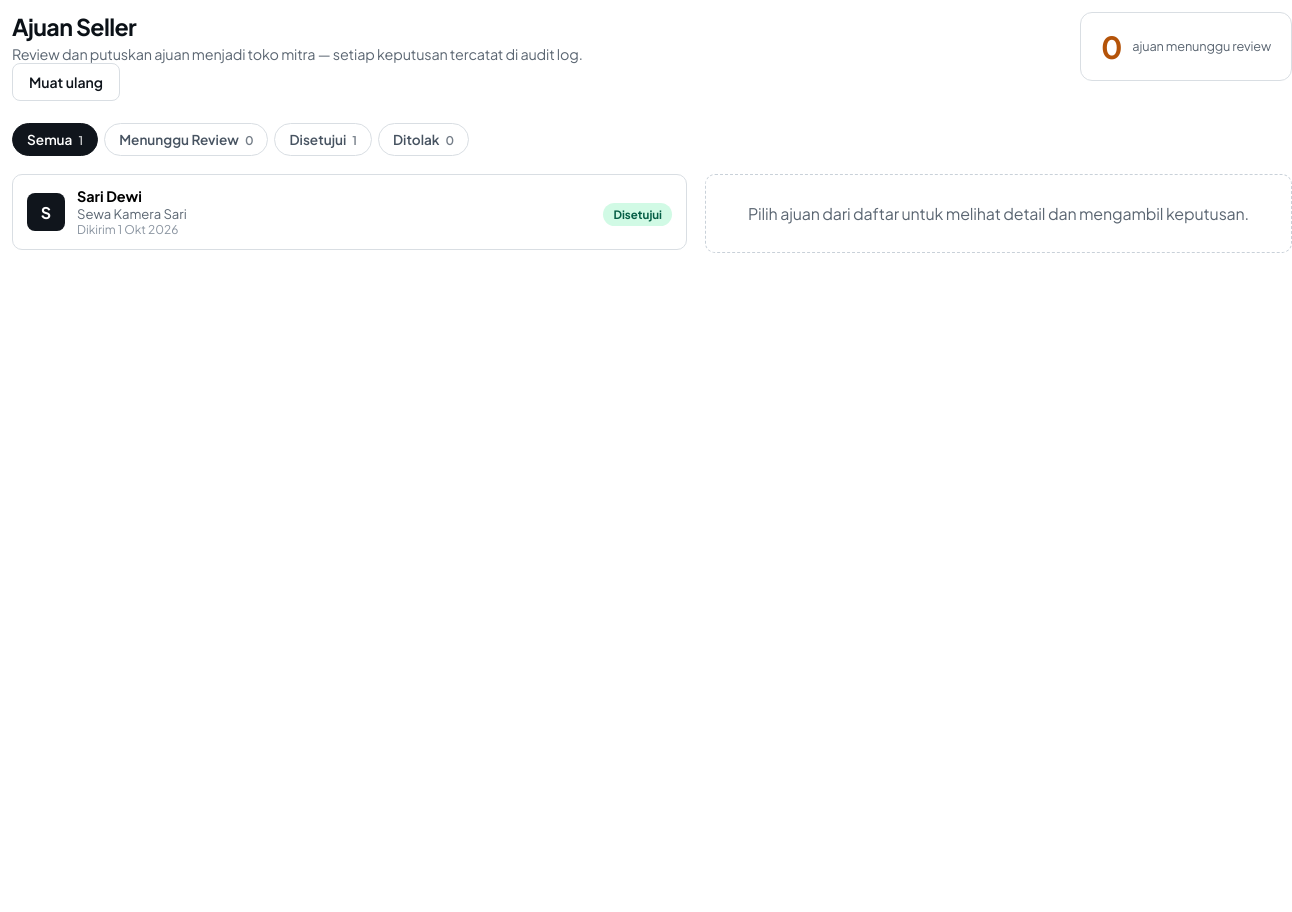
AdminApplications › ajuan yang sudah diputus tidak menawarkan aksi keputusan
This screenshot has width=1292, height=912.
Expected: the text "Sari Dewi" is shown, x1=77 y1=187 x2=142 y2=205
Click the button "S Sari Dewi Sewa Kamera Sari Dikirim 1 Okt 2026 Disetujui". click: coordinates (46, 212)
box: x1=12 y1=174 x2=687 y2=250
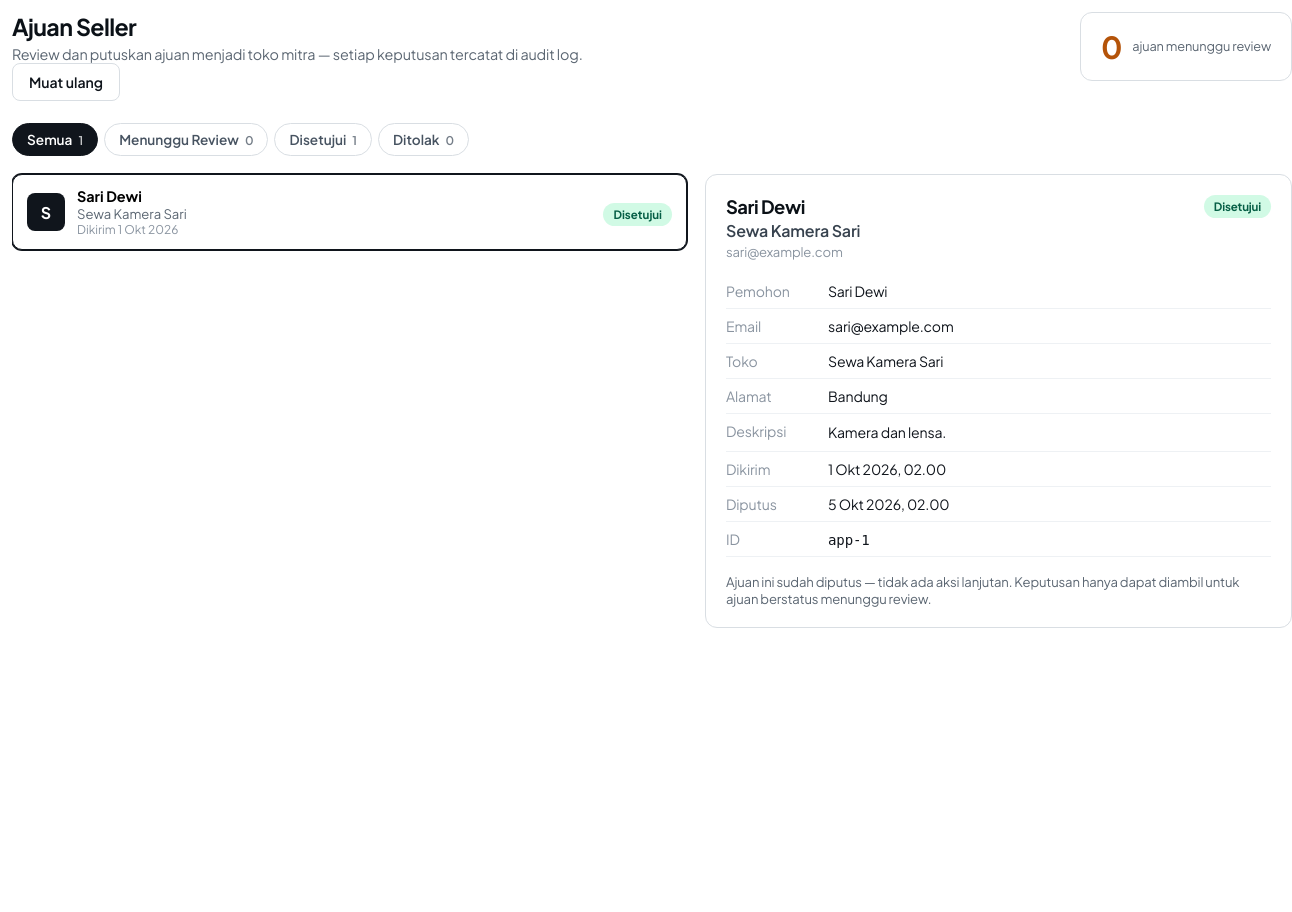
Expected: the text "Ajuan ini sudah diputus" is shown, x1=726 y1=573 x2=1239 y2=607
